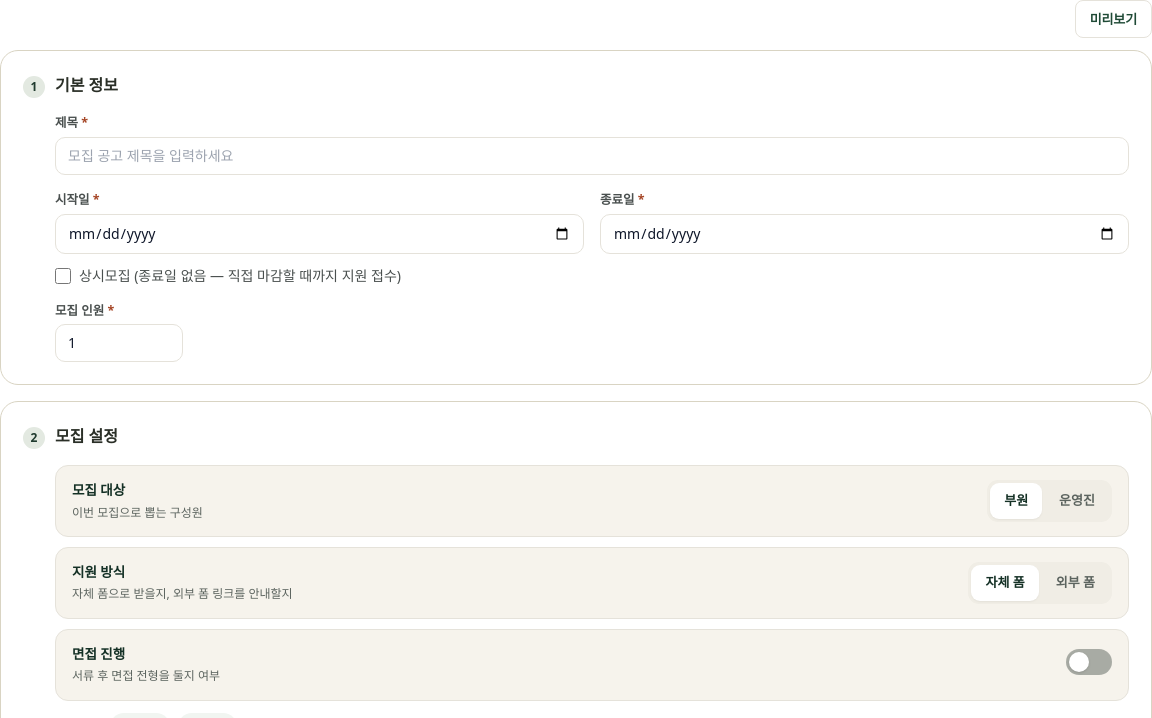
Test case: RecruitmentForm — 상시모집 토글 › 상시모집 체크박스를 켜면 종료일 입력이 disabled 되고 값이 비워진다
Type "2026-12-31" into the date field labelled "종료일 *" at (864, 234), box left=600, top=214, right=1129, bottom=254
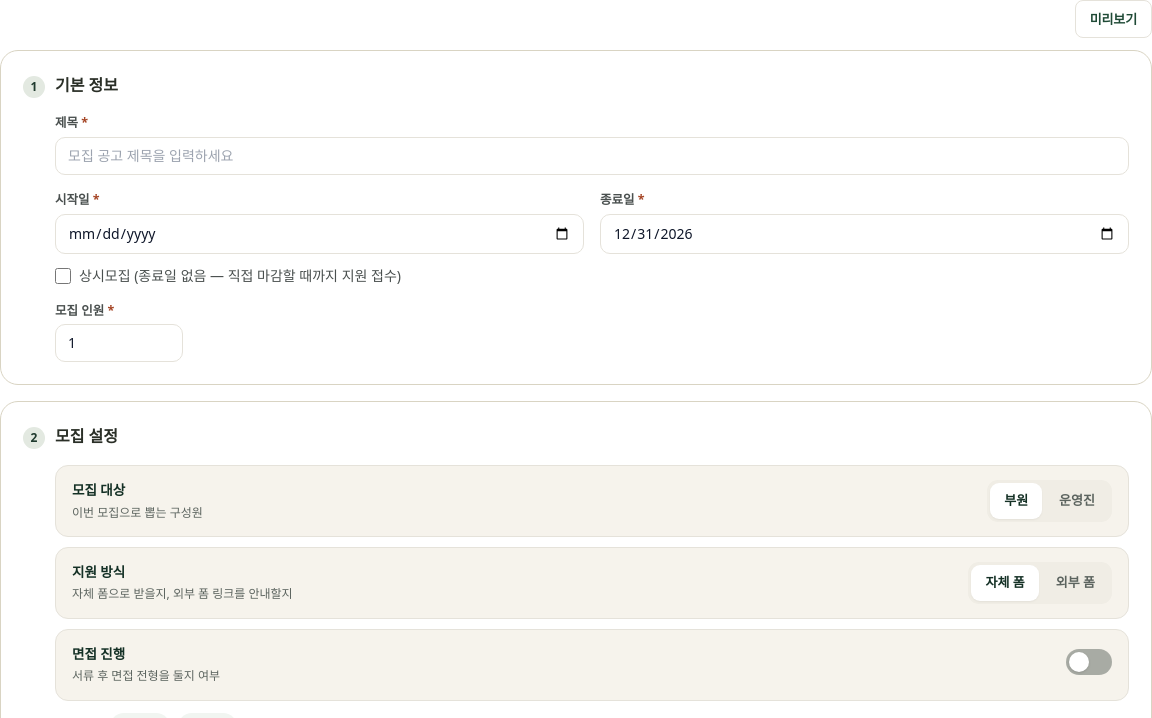
Click the checkbox labelled "상시모집 (종료일 없음 — 직접 마감할 때까지 지원 접수)" at (63, 276), box left=55, top=268, right=71, bottom=284
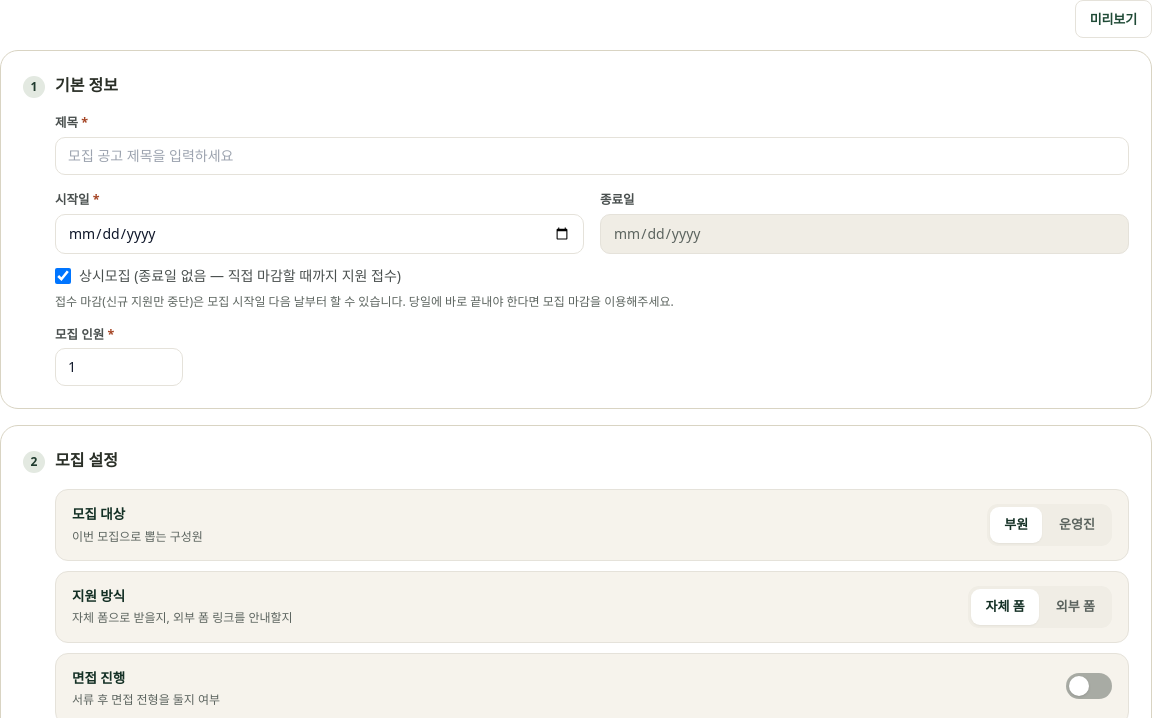
Check: the date field labelled "종료일" is disabled, box left=600, top=214, right=1129, bottom=254
Check: the date field labelled "종료일" is empty, box left=600, top=214, right=1129, bottom=254
